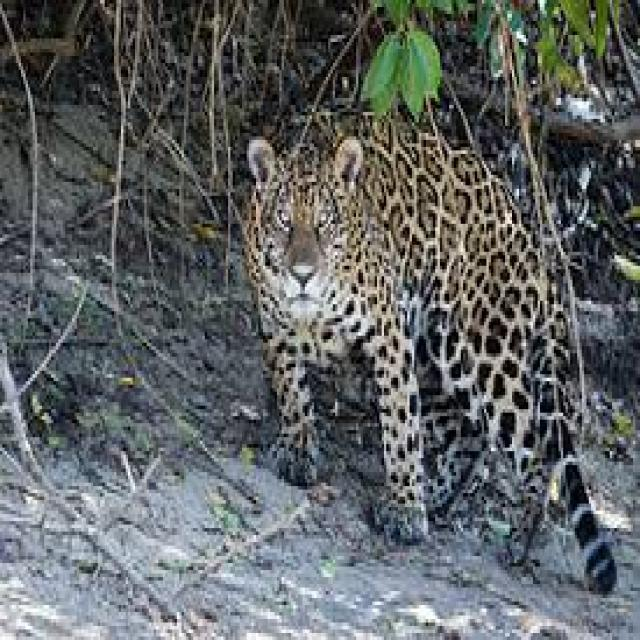Jaguar: (246, 112, 616, 598)
